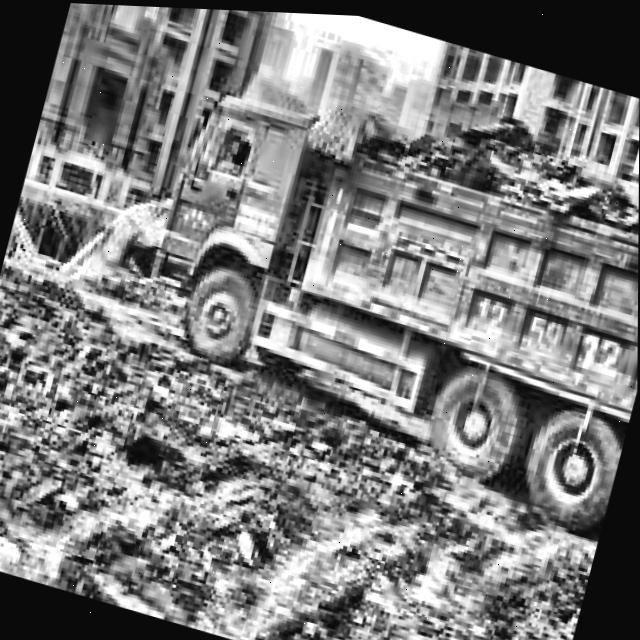dump_truck: (129, 46, 640, 527)
